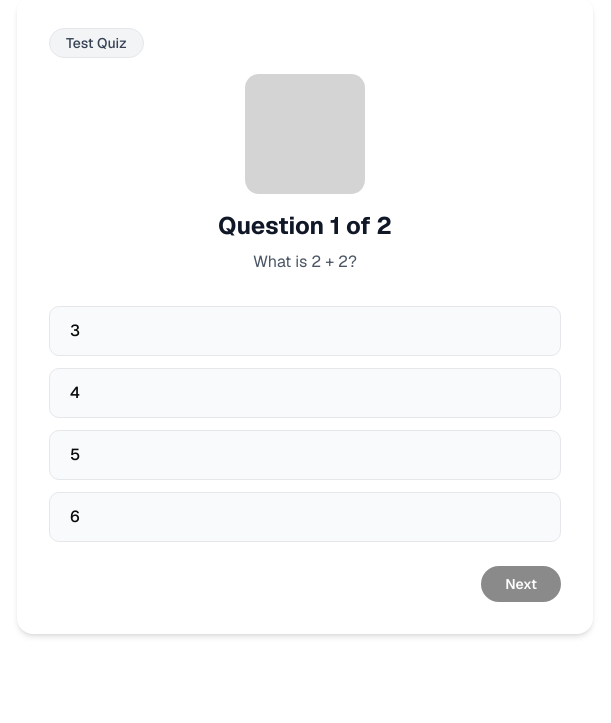
Test: QuizClient › shows feedback after selecting a wrong answer
Note: Click the answer button with text '4', which is incorrect
Click the button "4". click: click(75, 392)
box: [49,368,561,418]
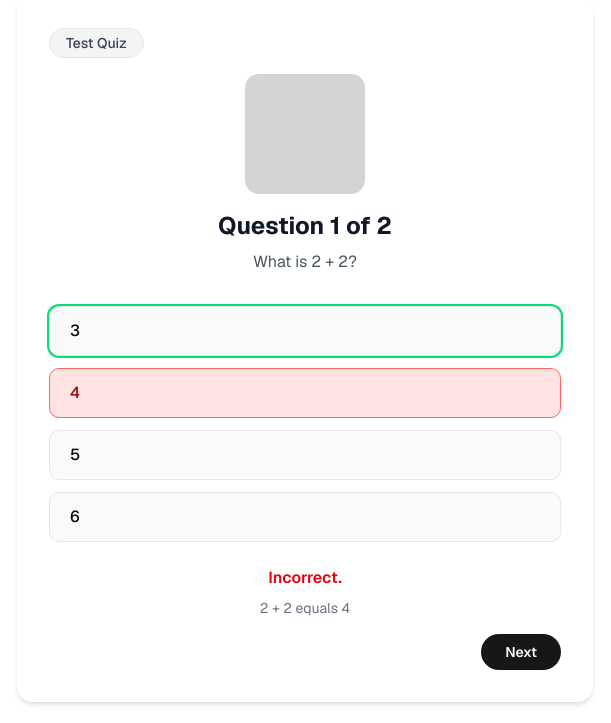
Expected: the text "Incorrect." is shown, [268,567,342,588]
Expected: the text "2 + 2 equals 4" is shown, [260,599,350,617]
